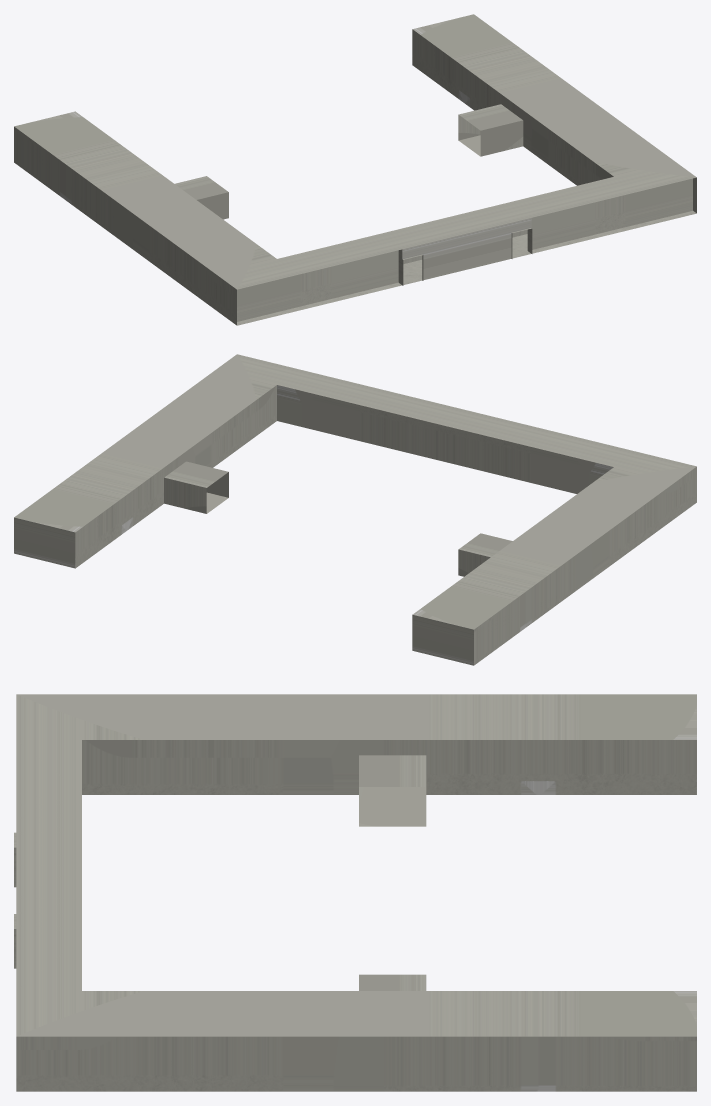
The model's file is Estructura_Pasillos.fbx.
3 renders of one model, top to bottom at view 1: azimuth 30°, elevation 25°; view 2: azimuth 150°, elevation 25°; view 3: azimuth 270°, elevation 25°, orthographic. The views are drawn at different scales.
Visible parts, largest first — view 1: Estrutura_inferior.002; view 2: Estrutura_inferior.002; view 3: Estrutura_inferior.002.
Part boxes in pixels (<box>): Estrutura_inferior.002: <box>14,14,696,325</box>; Estrutura_inferior.002: <box>14,354,696,665</box>; Estrutura_inferior.002: <box>14,694,696,1091</box>.
Size of the model in its own units: 5052 by 379 by 4259.
